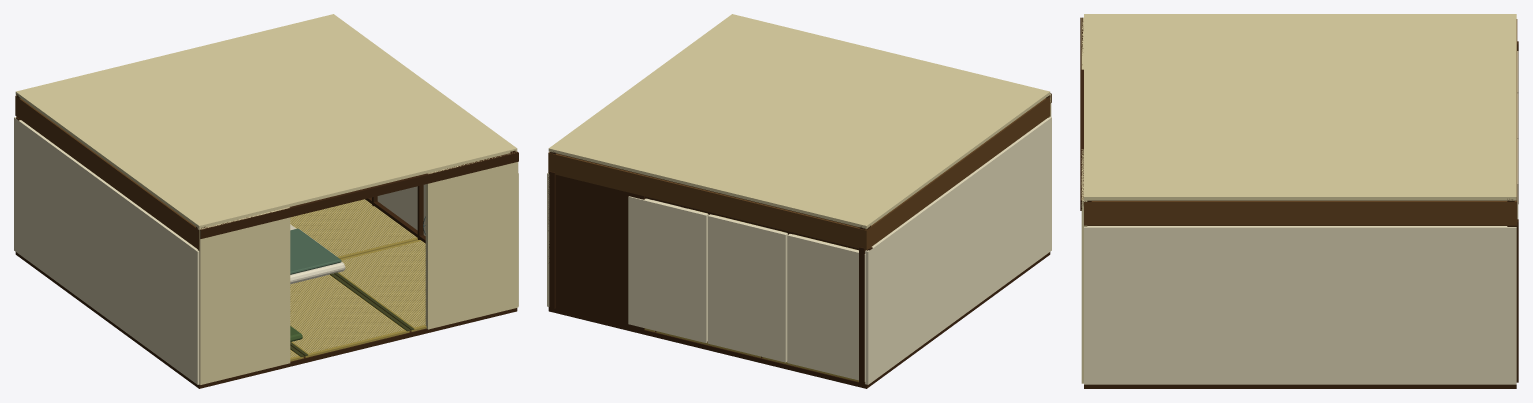
Rendered from tatami-home.glb.
The picture shows the model from 3 angles, left to right: view 1: azimuth 30°, elevation 25°; view 2: azimuth 150°, elevation 25°; view 3: azimuth 270°, elevation 25°; orthographic projection. The views are drawn at different scales.
Parts seen in each view (by area): view 1: PreviewCeiling, Room_paper, Room_straw, PreviewFront.001, PreviewFront, Room_cream, Room_cedar, Room_wood, night quilt, Room_edge, night mattress; view 2: PreviewCeiling, Room_paper, Room_cedar, Room_wood, Room_straw; view 3: PreviewCeiling, Room_paper, Room_wood, Room_cedar, PreviewFront.001.
Boxes of the visible parts, x1,y1,x2,y2 form: PreviewCeiling: (15, 14, 517, 228); Room_paper: (14, 117, 518, 384); Room_straw: (290, 199, 426, 361); PreviewFront.001: (425, 154, 518, 329); PreviewFront: (197, 207, 290, 384); Room_cream: (290, 199, 425, 357); Room_cedar: (15, 94, 518, 388); Room_wood: (15, 95, 199, 249); night quilt: (290, 228, 341, 274); Room_edge: (290, 272, 414, 356); night mattress: (290, 224, 345, 284); PreviewCeiling: (548, 14, 1050, 228); Room_paper: (547, 117, 1051, 384); Room_cedar: (548, 93, 1051, 388); Room_wood: (548, 96, 1050, 250); Room_straw: (644, 209, 858, 381); PreviewCeiling: (1084, 14, 1516, 200); Room_paper: (1084, 51, 1518, 384); Room_wood: (1084, 19, 1517, 225); Room_cedar: (1080, 17, 1518, 388); PreviewFront.001: (1081, 149, 1087, 383).
Bounding box in the file's own units: 6.06 × 2.94 × 6.08.
